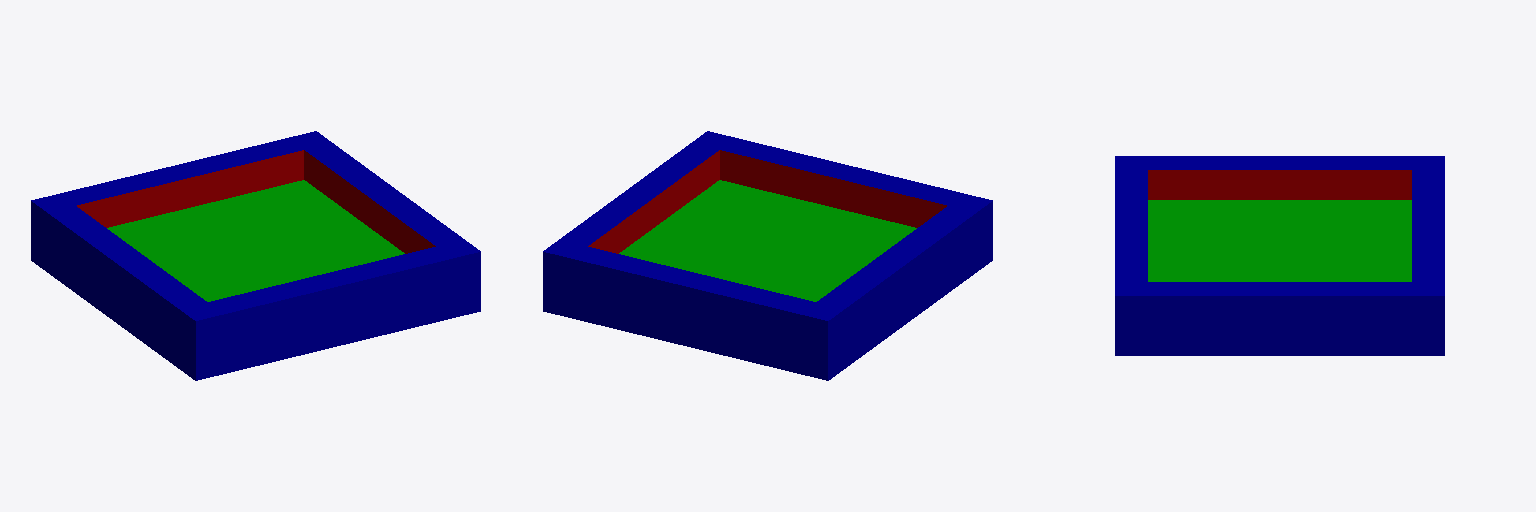
Rendered from table2.obj.
3 views of the same model, side by side, from view 1: azimuth 30°, elevation 25°; view 2: azimuth 150°, elevation 25°; view 3: azimuth 270°, elevation 25° (orthographic).
Visible parts, largest first — view 1: Cube.004; view 2: Cube.004; view 3: Cube.004.
Boxes of the visible parts, <box> form: Cube.004: <box>31,131,480,380</box>; Cube.004: <box>543,131,992,380</box>; Cube.004: <box>1115,156,1444,355</box>.
Size of the model in its own units: 10 by 2 by 10.